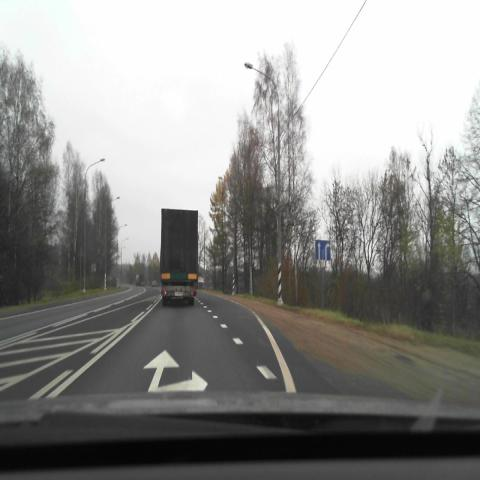5_15_2_2: (315, 240, 330, 260)
